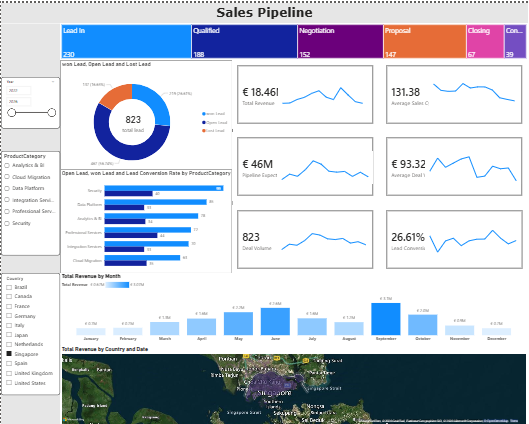

The dashboard page shown, as its layout file describes it:
{"tool":"powerbi","page":{"name":"Sales Pipeline","canvas":[1280,720],"ordinal":4},"visuals":[{"type":"cardVisual","fields":{"Data":["Dex Function.Total Revenue"]},"box":[0,0,536.5,205.7],"z":0,"group":"g9"},{"type":"cardVisual","fields":{"Data":["Dex Function.Average Sales Cycle (Days)"]},"box":[546.3,0,536.5,205.7],"z":0,"group":"g10"},{"type":"cardVisual","fields":{"Data":["Dex Function.Pipeline Expected Revenue"]},"box":[0,215.5,536.5,205.7],"z":0,"group":"g11"},{"type":"group","id":"g1","title":"Group 3","box":[0,215.5,536.5,205.7],"z":0,"group":"g8"},{"type":"cardVisual","fields":{"Data":["Dex Function.Average Deal VAlue"]},"box":[546.3,215.6,536.5,205.7],"z":0,"group":"g12"},{"type":"cardVisual","fields":{"Data":["Dex Function.Deal Volume"]},"box":[0,431,536.5,205.7],"z":0,"group":"g13"},{"type":"cardVisual","fields":{"Data":["Dex Function.Conversion Rate"]},"box":[546.3,431,537.2,205.7],"z":0,"group":"g14"},{"type":"group","id":"g2","title":"Group 1","box":[0,0,536.5,205.7],"z":1000,"group":"g8"},{"type":"lineChart","fields":{"Category":["DimDate.Date.Variation.Date Hierarchy.Month"],"Y":["Dex Function.Total Revenue"]},"box":[167.1,49.4,350.7,98.7],"z":1000,"group":"g9"},{"type":"lineChart","fields":{"Category":["DimDate.Date.Variation.Date Hierarchy.Month"],"Y":["Dex Function.Average Sales Cycle (Days)"]},"box":[721.6,49.4,342.5,98.7],"z":1000,"group":"g10"},{"type":"lineChart","fields":{"Category":["DimDate.Date.Variation.Date Hierarchy.Month"],"Y":["Dex Function.Average Deal VAlue"]},"box":[708.5,271.4,350.7,98.7],"z":1000,"group":"g12"},{"type":"lineChart","fields":{"Category":["DimDate.Date.Variation.Date Hierarchy.Month"],"Y":["Dex Function.Deal Volume"]},"box":[162.2,482,352.3,98.7],"z":1000,"group":"g13"},{"type":"lineChart","fields":{"Category":["DimDate.Date.Variation.Date Hierarchy.Month"],"Y":["Dex Function.Conversion Rate"]},"box":[708.5,486.9,350.7,98.7],"z":1000,"group":"g14"},{"type":"group","id":"g3","title":"Group 4","box":[0,215.5,536.5,205.7],"z":1503,"group":"g1"},{"type":"group","id":"g4","title":"Group 2","box":[0,431,536.5,205.7],"z":2000,"group":"g8"},{"type":"lineChart","fields":{"Category":["DimDate.Date.Variation.Date Hierarchy.Month"],"Y":["Dex Function.Pipeline Expected Revenue"]},"box":[163.9,271.4,350.7,98.7],"z":2001,"group":"g11"},{"type":"group","id":"g5","title":"Group 1","box":[546.3,0,536.5,205.7],"z":3000,"group":"g8"},{"type":"group","id":"g6","title":"Group 1","box":[546.3,215.6,536.5,205.7],"z":4000,"group":"g8"},{"type":"group","id":"g7","title":"Group 1","box":[546.3,431,537.2,205.7],"z":5000,"group":"g8"},{"type":"group","id":"g8","title":"Group 11","box":[0,0,1083.5,636.6],"z":5001},{"type":"group","id":"g9","title":"Group 5","box":[0,0,536.5,205.7],"z":5001,"group":"g2"},{"type":"group","id":"g10","title":"Group 6","box":[546.3,0,536.5,205.7],"z":5001,"group":"g5"},{"type":"group","id":"g11","title":"Group 7","box":[0,215.5,536.5,205.7],"z":5001,"group":"g3"},{"type":"group","id":"g12","title":"Group 8","box":[546.3,215.6,536.5,205.7],"z":5001,"group":"g6"},{"type":"group","id":"g13","title":"Group 9","box":[0,431,536.5,205.7],"z":5001,"group":"g4"},{"type":"group","id":"g14","title":"Group 10","box":[546.3,431,537.2,205.7],"z":5001,"group":"g7"}]}

Visuals, with their boxes on the page's 1280x720 design canvas (x1, y1, x2, y2). These are canvas units, not pixel positions in the 529x424 screenshot, which may show the page scaled, cropped or inside an application window:
cardVisual - Dex Function.Total Revenue: box=[0, 0, 536, 206]
cardVisual - Dex Function.Average Sales Cycle (Days): box=[546, 0, 1083, 206]
cardVisual - Dex Function.Pipeline Expected Revenue: box=[0, 216, 536, 421]
"Group 3" group: box=[0, 216, 536, 421]
cardVisual - Dex Function.Average Deal VAlue: box=[546, 216, 1083, 421]
cardVisual - Dex Function.Deal Volume: box=[0, 431, 536, 637]
cardVisual - Dex Function.Conversion Rate: box=[546, 431, 1084, 637]
"Group 1" group: box=[0, 0, 536, 206]
lineChart - DimDate.Date.Variation.Date Hierarchy.Month x Dex Function.Total Revenue: box=[167, 49, 518, 148]
lineChart - DimDate.Date.Variation.Date Hierarchy.Month x Dex Function.Average Sales Cycle (Days): box=[722, 49, 1064, 148]
lineChart - DimDate.Date.Variation.Date Hierarchy.Month x Dex Function.Average Deal VAlue: box=[708, 271, 1059, 370]
lineChart - DimDate.Date.Variation.Date Hierarchy.Month x Dex Function.Deal Volume: box=[162, 482, 514, 581]
lineChart - DimDate.Date.Variation.Date Hierarchy.Month x Dex Function.Conversion Rate: box=[708, 487, 1059, 586]
"Group 4" group: box=[0, 216, 536, 421]
"Group 2" group: box=[0, 431, 536, 637]
lineChart - DimDate.Date.Variation.Date Hierarchy.Month x Dex Function.Pipeline Expected Revenue: box=[164, 271, 515, 370]
"Group 1" group: box=[546, 0, 1083, 206]
"Group 1" group: box=[546, 216, 1083, 421]
"Group 1" group: box=[546, 431, 1084, 637]
"Group 11" group: box=[0, 0, 1084, 637]
"Group 5" group: box=[0, 0, 536, 206]
"Group 6" group: box=[546, 0, 1083, 206]
"Group 7" group: box=[0, 216, 536, 421]
"Group 8" group: box=[546, 216, 1083, 421]
"Group 9" group: box=[0, 431, 536, 637]
"Group 10" group: box=[546, 431, 1084, 637]
